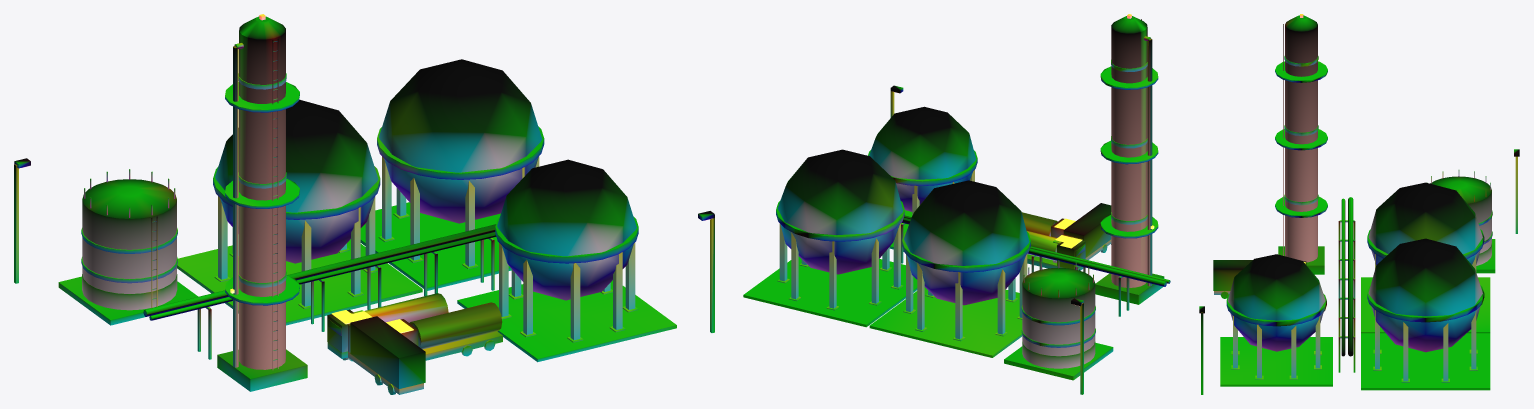
Rendered from Ind_Spheres.fbx.
The picture shows the model from 3 angles, left to right: view 1: azimuth 30°, elevation 25°; view 2: azimuth 150°, elevation 25°; view 3: azimuth 270°, elevation 25°; orthographic projection. The views are drawn at different scales.
Visible parts, largest first — view 1: Ind_Spheres_LOD0; view 2: Ind_Spheres_LOD0; view 3: Ind_Spheres_LOD0.
Part boxes in pixels (box(x1,y1,x2,y2)): Ind_Spheres_LOD0: box(14, 14, 714, 394); Ind_Spheres_LOD0: box(743, 14, 1170, 394); Ind_Spheres_LOD0: box(1199, 14, 1519, 394).
Size of what is drawn, in the model's own units: 46.3 by 33.35 by 38.7.
